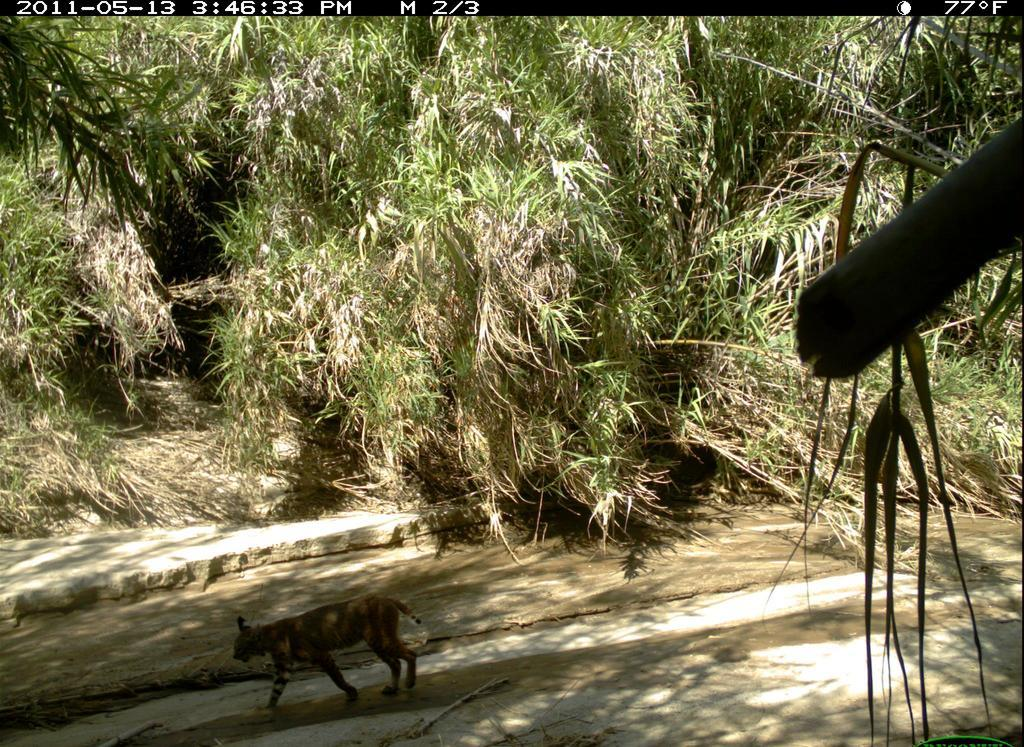bobcat: (216, 585, 451, 717)
